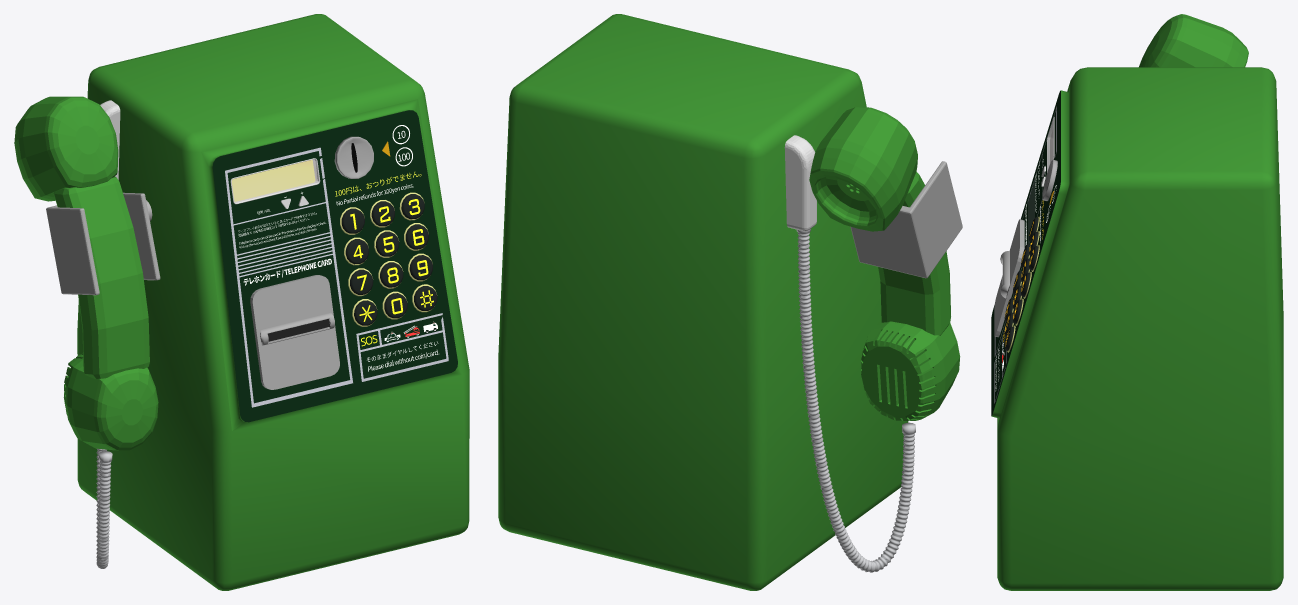
File: phone.glb
3 views of the same model, side by side, from view 1: azimuth 30°, elevation 25°; view 2: azimuth 150°, elevation 25°; view 3: azimuth 270°, elevation 25° (orthographic). The views are drawn at different scales.
Parts seen in each view (by area): view 1: Cube, Cylinder.015, Cube.015, Cube.027, Cube.025, PhoneCord_Web, Cylinder.001, Cube.001, Cylinder.023, Cube.007; view 2: Cube, Cylinder.015, Cube.027, PhoneCord_Web, Cube.026; view 3: Cube, Cylinder.015, Cube.015.
Part boxes in pixels (x1,y1,x2,y2): Cube: (77,14,469,590); Cylinder.015: (14,96,158,450); Cube.015: (250,275,339,389); Cube.027: (46,192,160,295); Cube.025: (230,158,320,204); PhoneCord_Web: (96,448,112,568); Cylinder.001: (334,136,373,178); Cube.001: (225,173,254,406); Cylinder.023: (260,312,334,345); Cube.007: (319,150,352,379); Cube: (498,14,908,590); Cylinder.015: (809,106,960,420); Cube.027: (850,161,962,278); PhoneCord_Web: (796,229,915,572); Cube.026: (784,135,816,231); Cube: (991,67,1283,590); Cylinder.015: (1139,14,1248,67); Cube.015: (994,219,1024,337).
Size of the model in its own units: 3.62 by 4.6 by 2.73.
4 materials, 4 textured.
